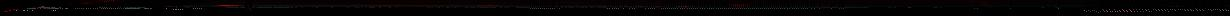Blue cone: (12, 9, 20, 10), (32, 7, 38, 8)
Yellow cone: (729, 4, 751, 7)
